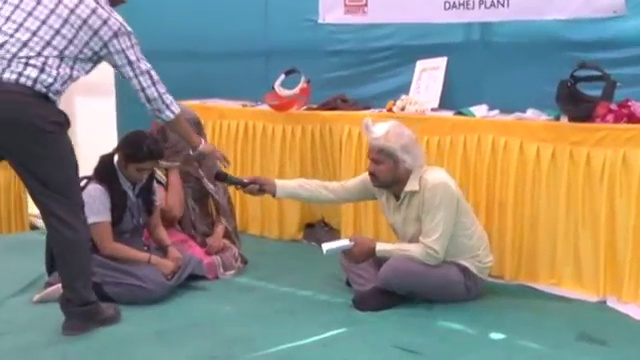helmet_off: (356, 122, 425, 188), (114, 129, 161, 189), (153, 110, 206, 162)
person: (0, 0, 227, 333), (234, 119, 496, 311), (29, 127, 192, 312), (151, 106, 246, 278)
